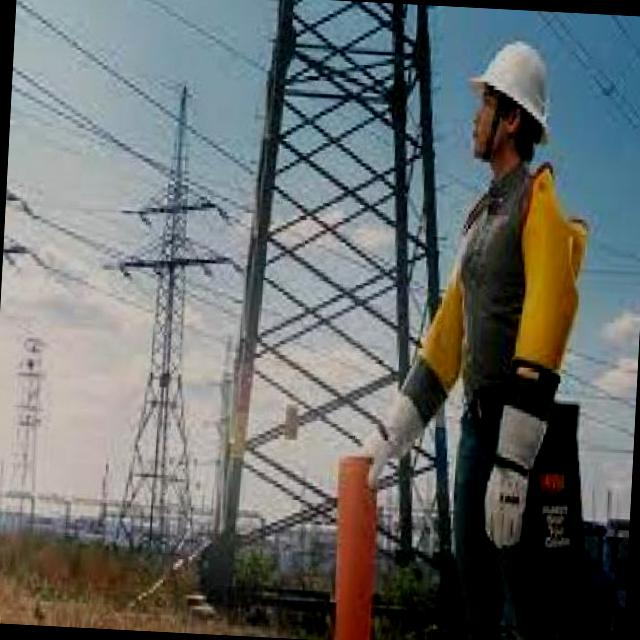gloves: (340, 340, 437, 495), (481, 372, 552, 554)
helmet: (465, 36, 562, 152)
